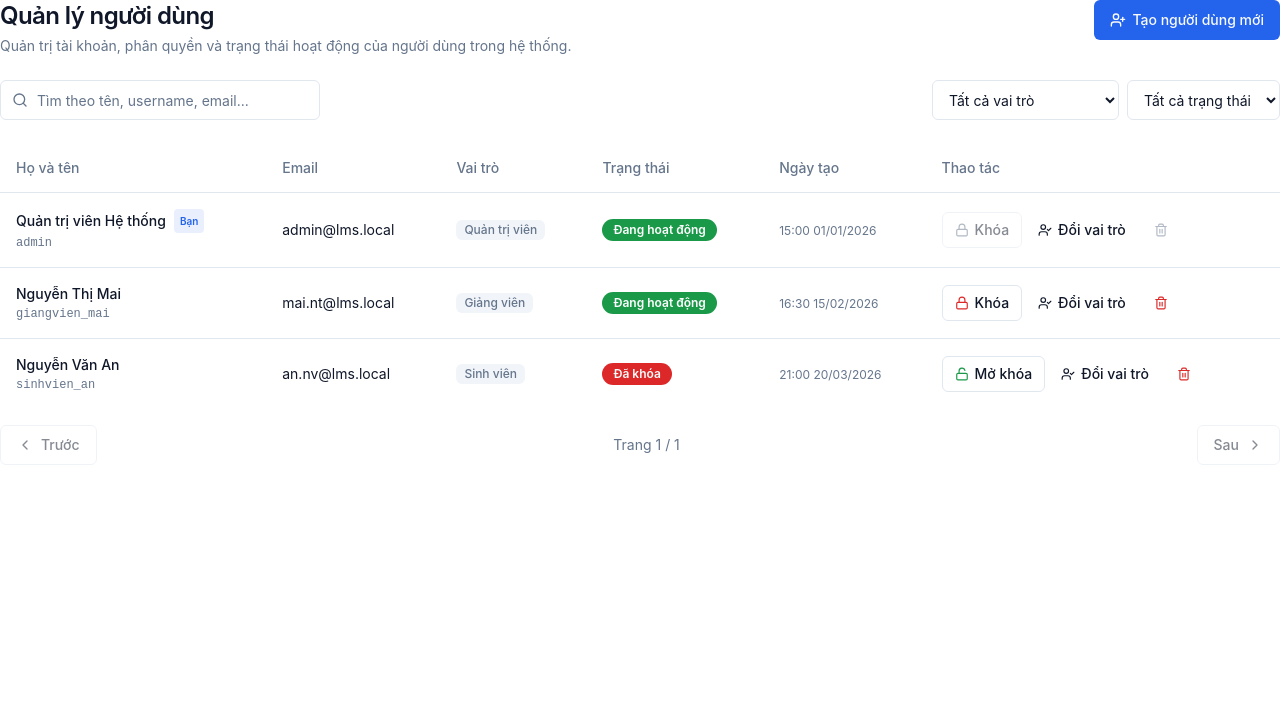
Test: AdminUsersPage (US-02 Quản lý người dùng) › handles 409 conflict when creating a user with existing username/email
The image size is (1280, 720).
Expected: the text "Nguyễn Thị Mai" is shown, top-left (16, 284), bottom-right (121, 304)
Click the button "Tạo người dùng mới". click: (1187, 20)
box: top-left (1094, 0), bottom-right (1279, 40)
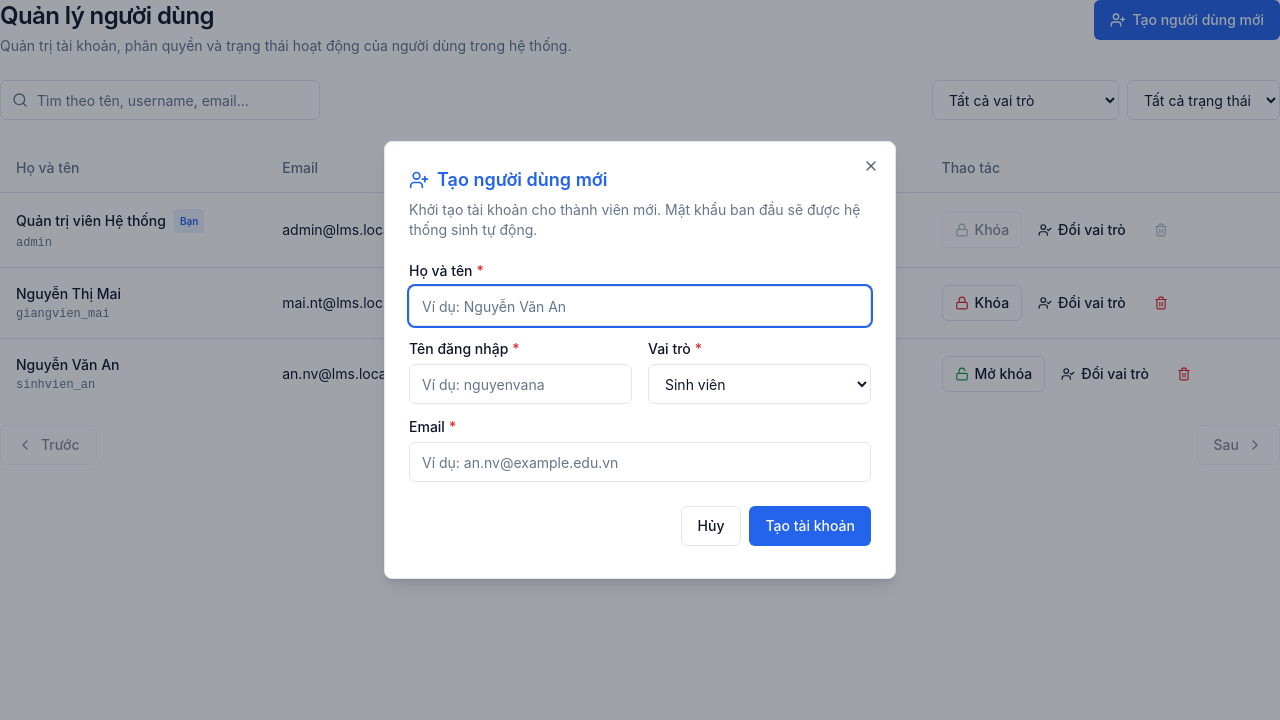
Type "Admin Trùng" into the field labelled "Họ và tên*". click: (640, 306)
box: top-left (409, 286), bottom-right (871, 326)
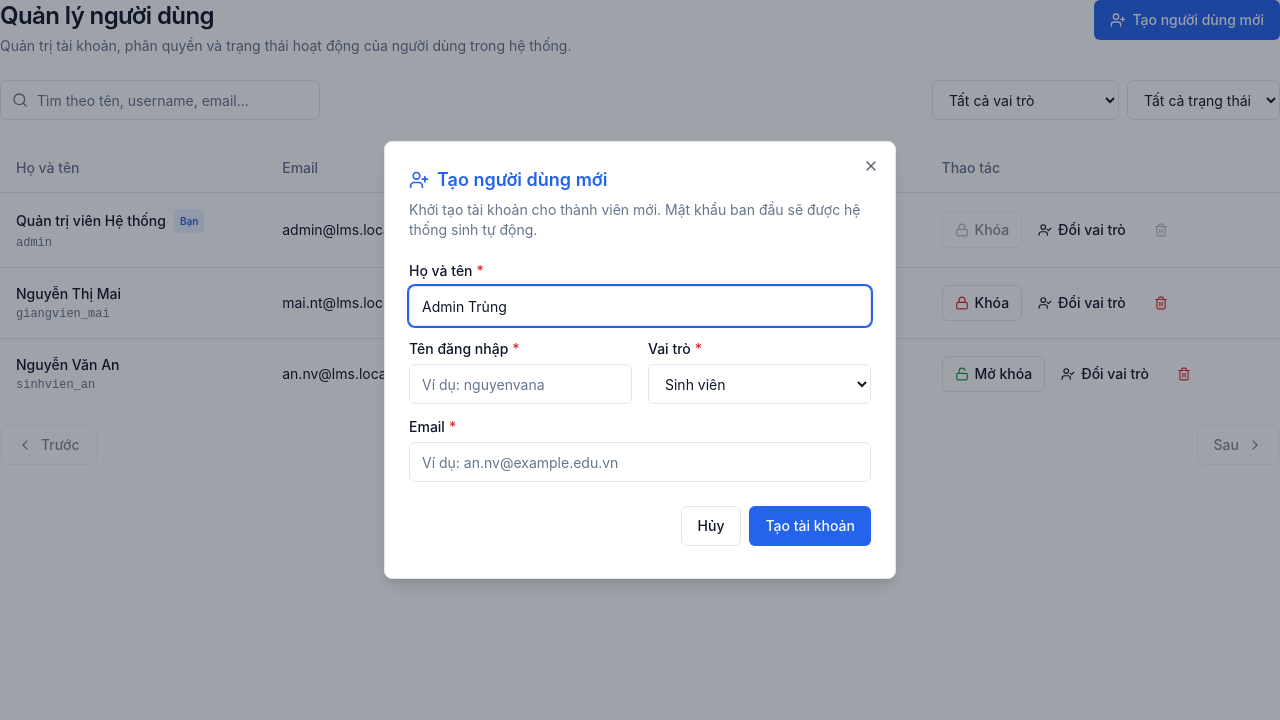
Type "admin" into the field labelled "Tên đăng nhập*". click: (520, 384)
box: top-left (409, 364), bottom-right (632, 404)
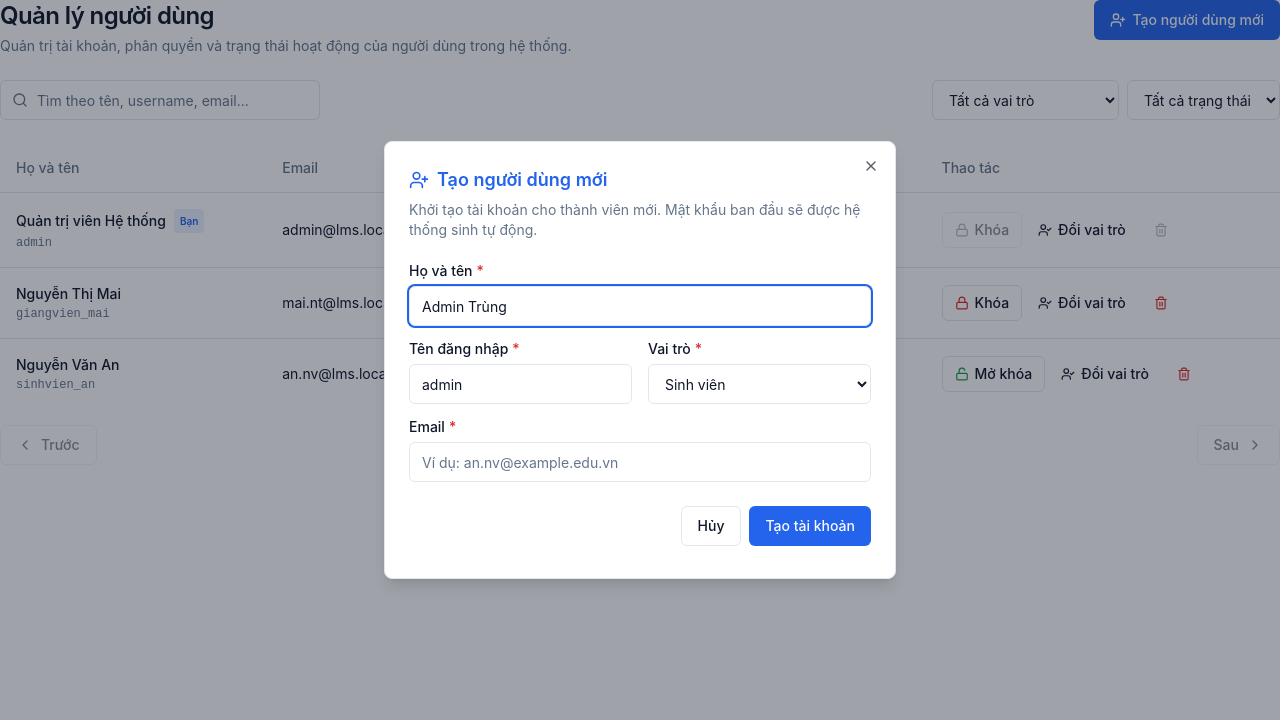
Type "admin@lms.local" into the field labelled "Email*". click: (640, 462)
box: top-left (409, 442), bottom-right (871, 482)
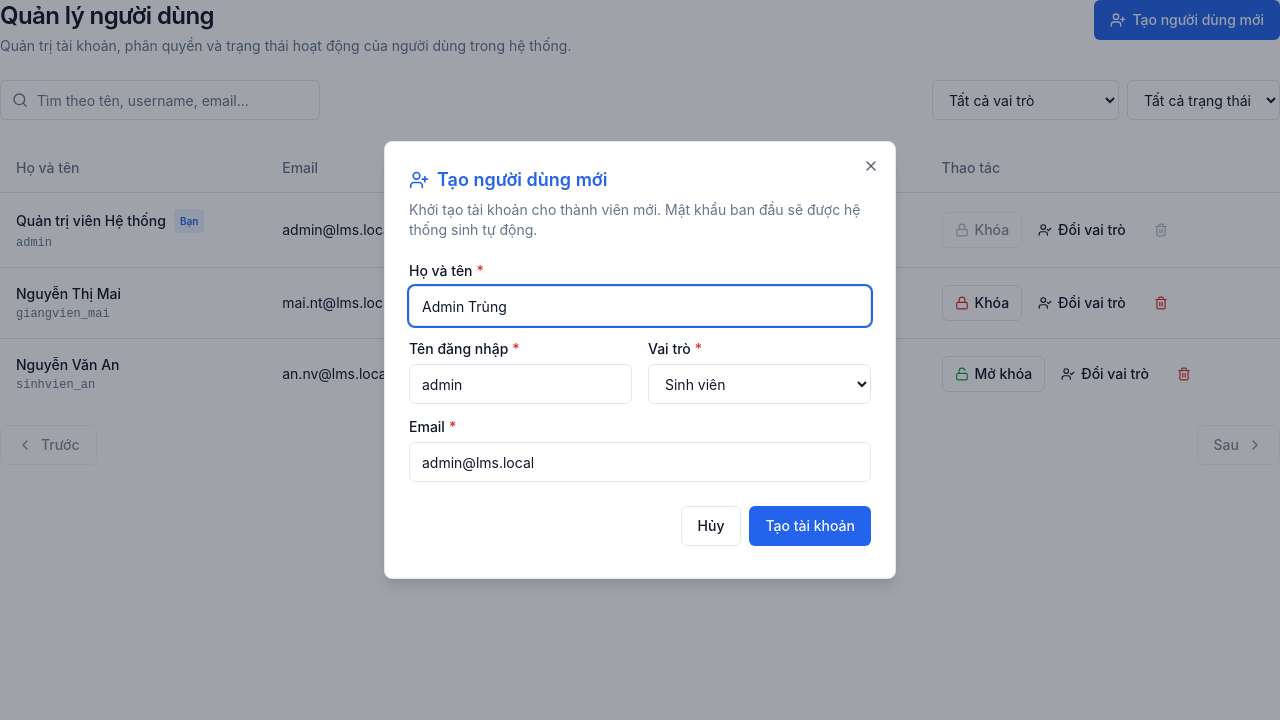
Click the button "Tạo tài khoản". click: (810, 526)
box: top-left (750, 506), bottom-right (871, 546)
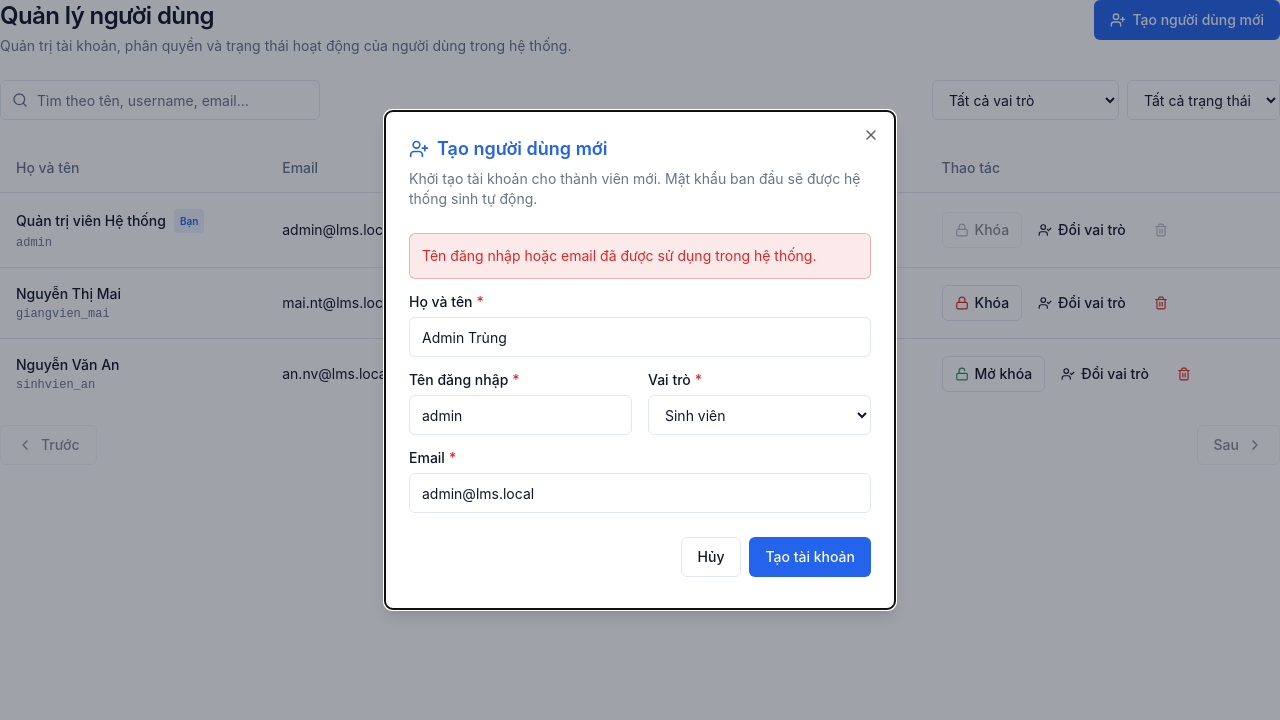
Expected: the text "Tên đăng nhập hoặc email đã được sử dụng trong hệ thống." is shown, top-left (409, 233), bottom-right (871, 279)
